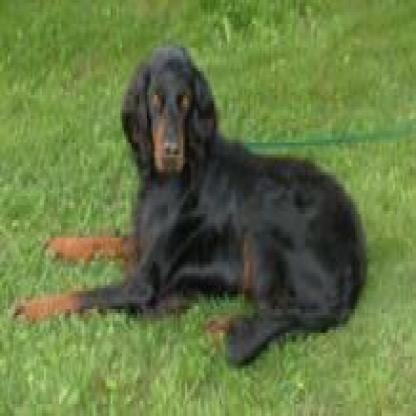Gordon_setter: (2, 39, 372, 386)
